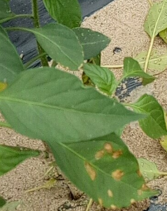Anthrax: (45, 120, 162, 209)
